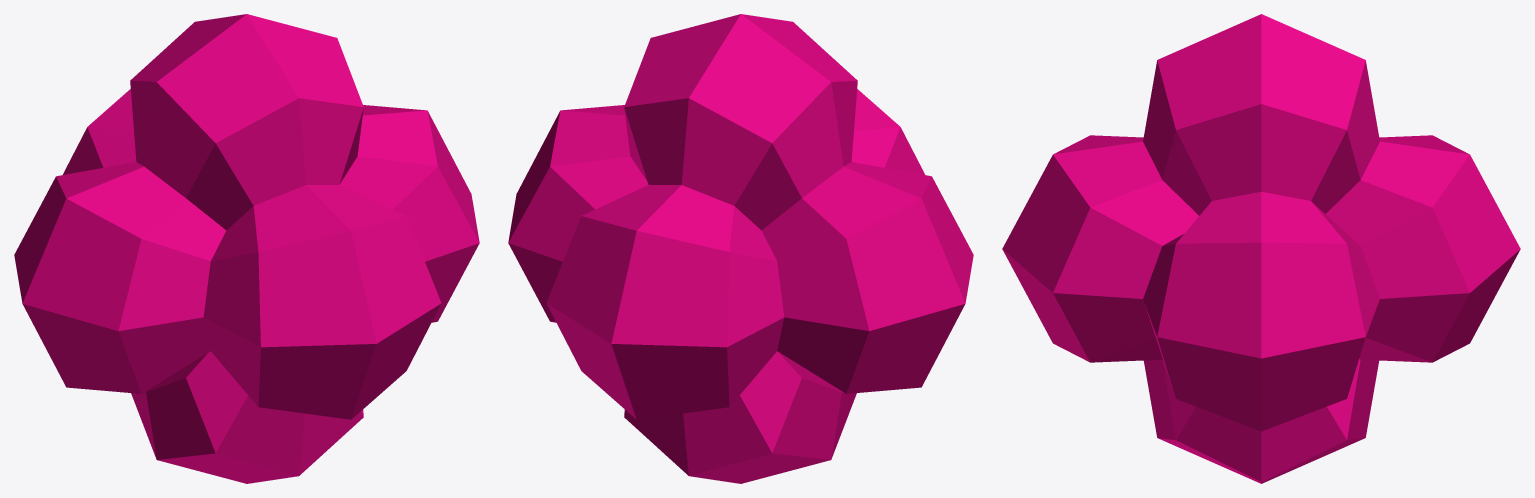
The model's file is konyak.glb.
3 views of the same model, side by side, from view 1: azimuth 30°, elevation 25°; view 2: azimuth 150°, elevation 25°; view 3: azimuth 270°, elevation 25° (orthographic).
Parts seen in each view (by area): view 1: Cube; view 2: Cube; view 3: Cube.
Part boxes in pixels (x1=…): Cube: x1=14, y1=14, x2=479, y2=483; Cube: x1=508, y1=14, x2=973, y2=483; Cube: x1=1002, y1=14, x2=1520, y2=483.
Size of the model in its own units: 3.61 by 3.61 by 3.61.
